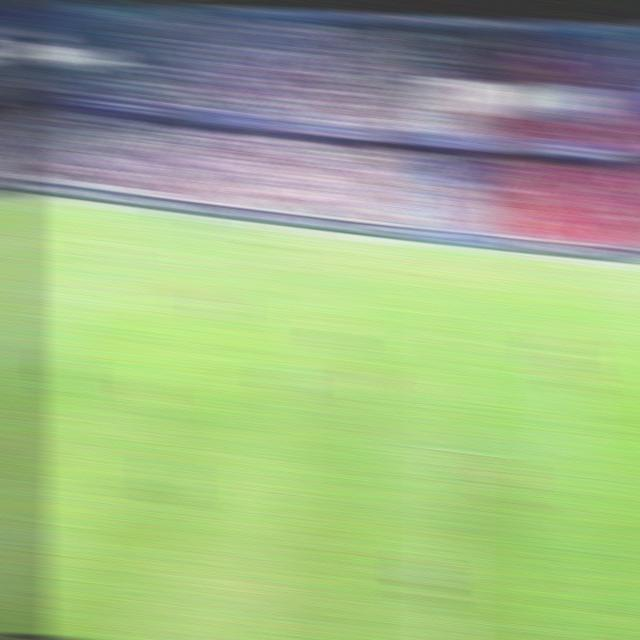bigarea_top_inner: (91, 243, 124, 260)
corner: (9, 190, 47, 205)
halfcircle_bottom: (428, 434, 473, 461)
halfcircle_top: (429, 323, 474, 349)
midline_top_intersection: (435, 244, 468, 258)
top_arc_area_intersection: (37, 282, 73, 300)
